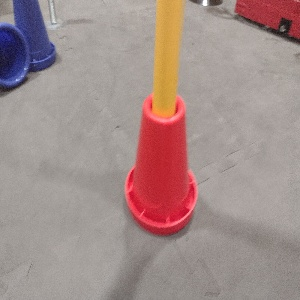Red_1: (123, 87, 198, 236)
